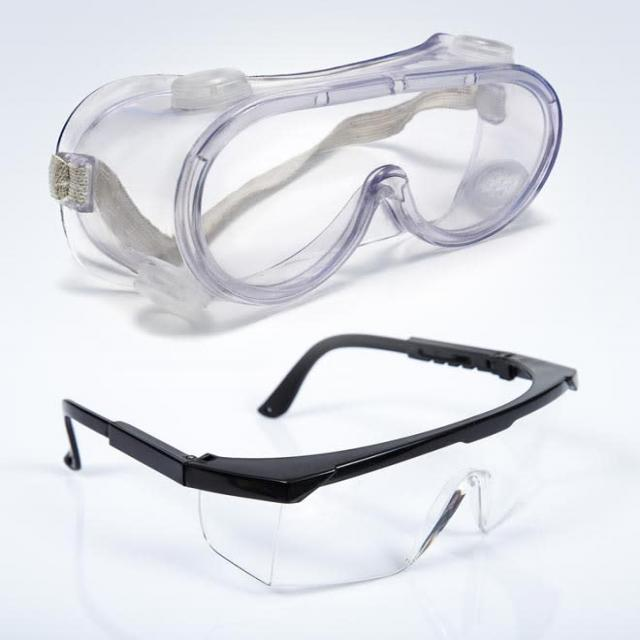Protective Glasses: (11, 316, 635, 620)
